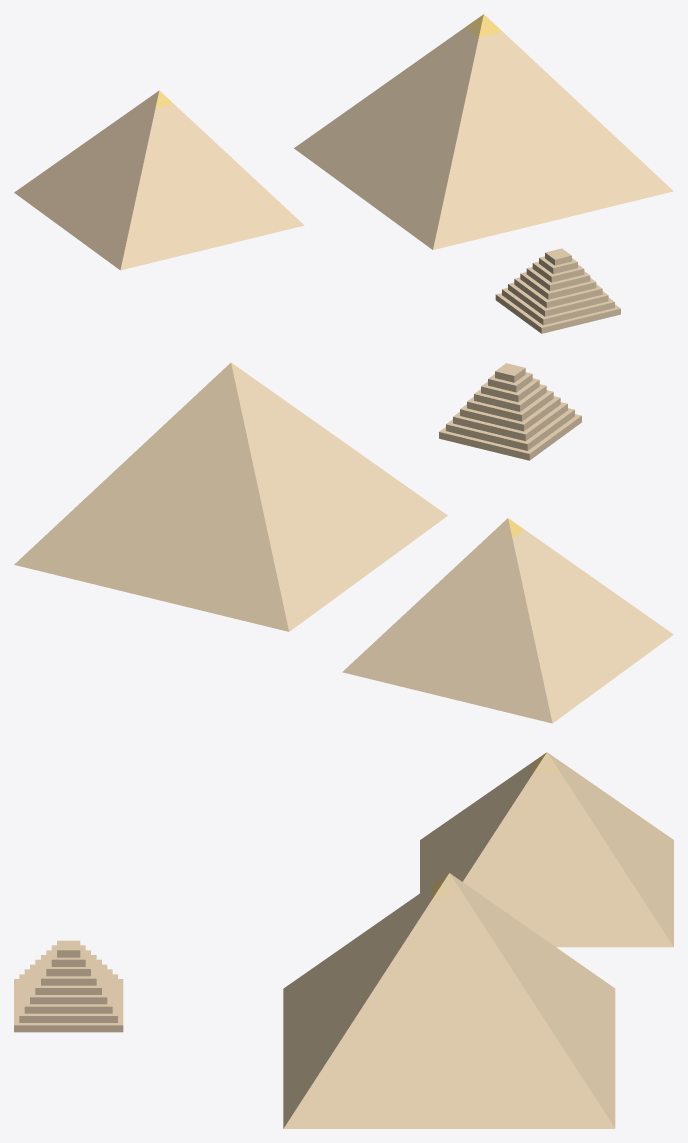
The model's file is egypt_pyramids.fbx.
3 views of the same model, one above another, from view 1: azimuth 30°, elevation 25°; view 2: azimuth 150°, elevation 25°; view 3: azimuth 270°, elevation 25° (orthographic). The views are drawn at different scales.
Visible parts, largest first — view 1: Pyramid1__Sandstone, Pyramid2__Sandstone, BuildPyramid__Sandstone, Cap1__Gold; view 2: Pyramid1__Sandstone, Pyramid2__Sandstone, BuildPyramid__Sandstone; view 3: Pyramid1__Sandstone, Pyramid2__Sandstone, BuildPyramid__Sandstone.
Boxes of the visible parts, left/top/right/bottom form: Pyramid1__Sandstone: left=294, top=18, right=673, bottom=249; Pyramid2__Sandstone: left=14, top=91, right=304, bottom=270; BuildPyramid__Sandstone: left=495, top=248, right=620, bottom=333; Cap1__Gold: left=465, top=14, right=502, bottom=37; Pyramid1__Sandstone: left=14, top=363, right=447, bottom=631; Pyramid2__Sandstone: left=342, top=518, right=673, bottom=723; BuildPyramid__Sandstone: left=439, top=363, right=581, bottom=460; Pyramid1__Sandstone: left=283, top=873, right=615, bottom=1128; Pyramid2__Sandstone: left=420, top=752, right=673, bottom=947; BuildPyramid__Sandstone: left=14, top=940, right=123, bottom=1032.
Size of the model in its own units: 350 by 105 by 338.
